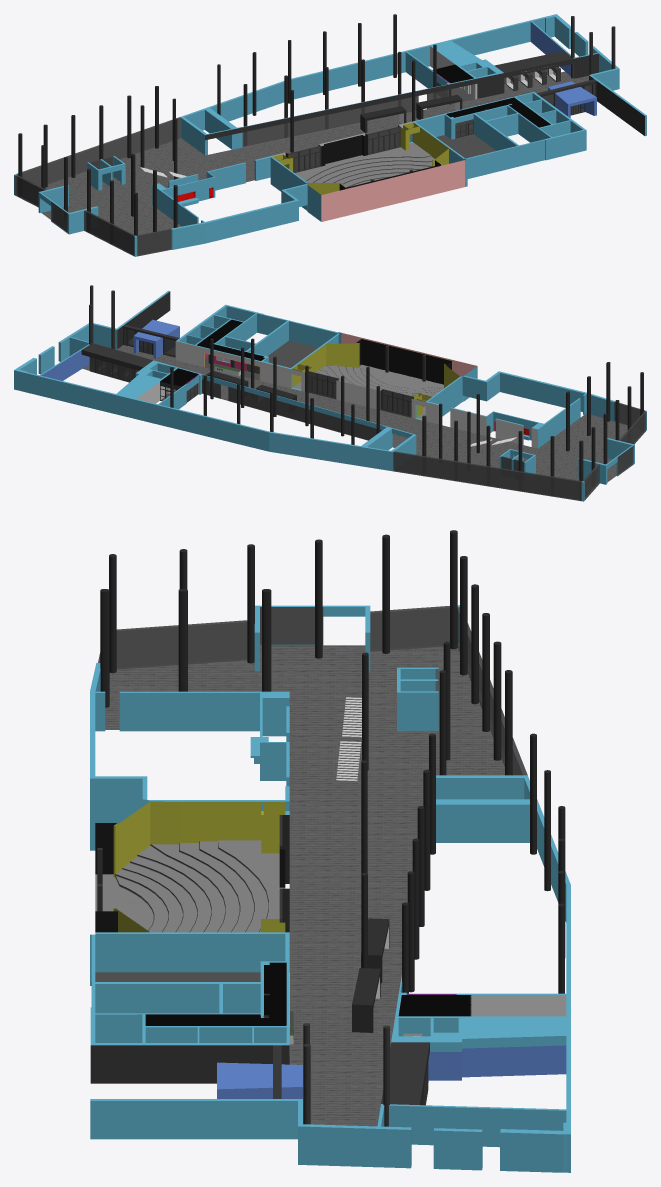
The model's file is frami.fbx.
The picture shows the model from 3 angles, top to bottom: view 1: azimuth 30°, elevation 25°; view 2: azimuth 150°, elevation 25°; view 3: azimuth 270°, elevation 25°; orthographic projection. The views are drawn at different scales.
Parts seen in each view (by area): view 1: Cube-col, frami_lattia-col, Cylinder, auditorio_lattia, Cube-col.004, Cube-col.010, Cube-col.028, auditorio_lasit, Cube.002, Cube-col.008, Cube.003; view 2: Cube-col, frami_lattia-col, Cylinder, Cube-col.004, auditorio_lattia, Cube-col.010, Cube-col.028, Cube-col.012, Cube-col.008, auditorio_lasit, Cube-col.009; view 3: Cube-col, frami_lattia-col, Cylinder, auditorio_lattia, Cube-col.004, Cube-col.028, Cube.003, Cube-col.003, Cube.002.
Part boxes in pixels (x1=…): Cube-col: x1=14, y1=14, x2=646, y2=256; frami_lattia-col: x1=42, y1=71, x2=588, y2=235; Cylinder: x1=18, y1=14, x2=615, y2=235; auditorio_lattia: x1=295, y1=142, x2=434, y2=187; Cube-col.004: x1=272, y1=122, x2=448, y2=194; Cube-col.010: x1=242, y1=89, x2=448, y2=147; Cube-col.028: x1=433, y1=64, x2=550, y2=127; auditorio_lasit: x1=368, y1=127, x2=400, y2=154; Cube.002: x1=360, y1=106, x2=406, y2=132; Cube-col.008: x1=289, y1=147, x2=320, y2=172; Cube.003: x1=416, y1=94, x2=462, y2=119; Cube-col: x1=14, y1=290, x2=646, y2=501; frami_lattia-col: x1=82, y1=340, x2=627, y2=482; Cylinder: x1=89, y1=285, x2=643, y2=480; Cube-col.004: x1=292, y1=339, x2=459, y2=417; auditorio_lattia: x1=293, y1=364, x2=443, y2=419; Cube-col.010: x1=202, y1=379, x2=381, y2=440; Cube-col.028: x1=160, y1=319, x2=264, y2=386; Cube-col.012: x1=90, y1=357, x2=135, y2=382; Cube-col.008: x1=382, y1=390, x2=412, y2=415; auditorio_lasit: x1=308, y1=372, x2=337, y2=396; Cube-col.009: x1=124, y1=328, x2=175, y2=356; Cube-col: x1=90, y1=605, x2=570, y2=1172; frami_lattia-col: x1=95, y1=645, x2=504, y2=1126; Cylinder: x1=100, y1=530, x2=565, y2=1126; auditorio_lattia: x1=95, y1=840, x2=285, y2=932; Cube-col.004: x1=95, y1=801, x2=285, y2=932; Cube-col.028: x1=145, y1=962, x2=471, y2=1025; Cube.003: x1=352, y1=968, x2=380, y2=1032; Cube-col.003: x1=336, y1=697, x2=361, y2=781; Cube.002: x1=361, y1=918, x2=389, y2=983.
Size of the model in its own units: 11819 by 1343 by 4539.
6 materials, 5 textured.
